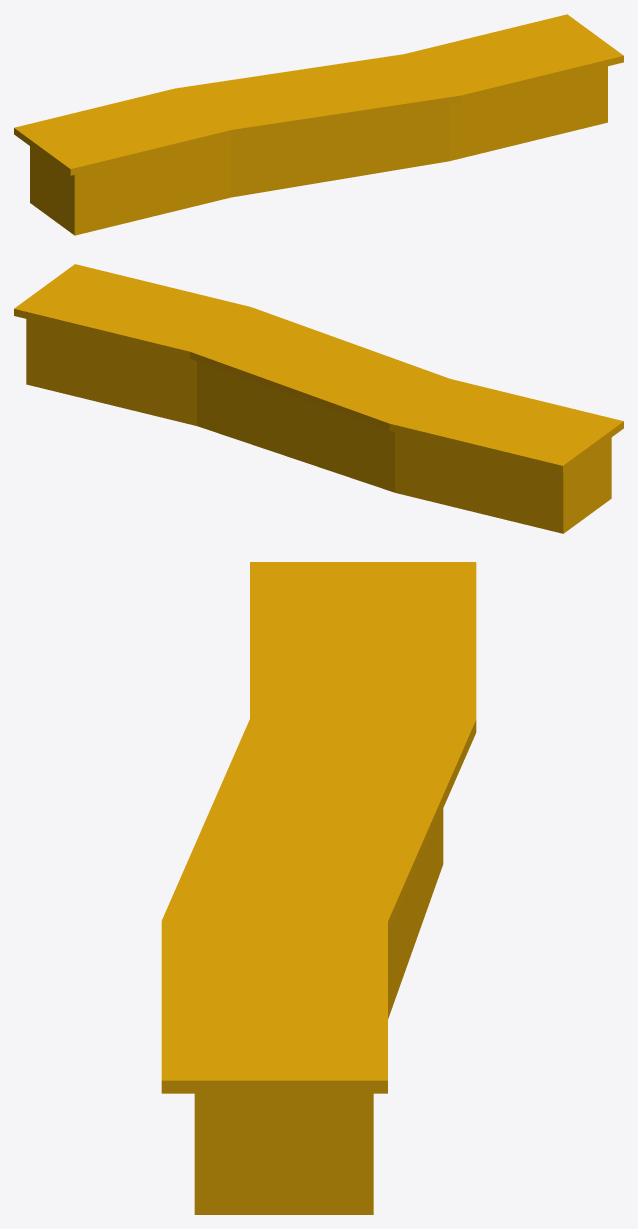
The model's file is deskYellow.obj.
3 renders of one model, top to bottom at view 1: azimuth 30°, elevation 25°; view 2: azimuth 150°, elevation 25°; view 3: azimuth 270°, elevation 25°, orthographic. The views are drawn at different scales.
Parts seen in each view (by area): view 1: pasted__mesa group; view 2: pasted__mesa group; view 3: pasted__mesa group.
Boxes of the visible parts, x1,y1,x2,y2 form: pasted__mesa group: (14,14,623,235); pasted__mesa group: (14,264,623,533); pasted__mesa group: (161,562,476,1214).
Size of the model in its own units: 13.46 by 1.72 by 3.45.
1 material, 1 textured.
